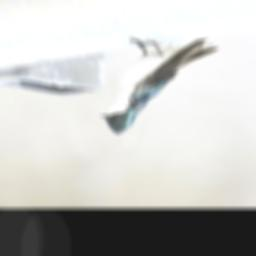Swallow: (98, 34, 220, 137)
